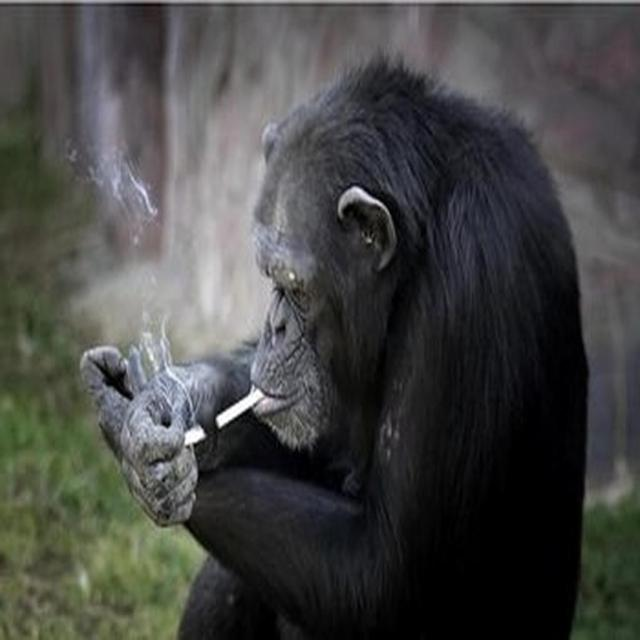smoking: (151, 90, 413, 473)
